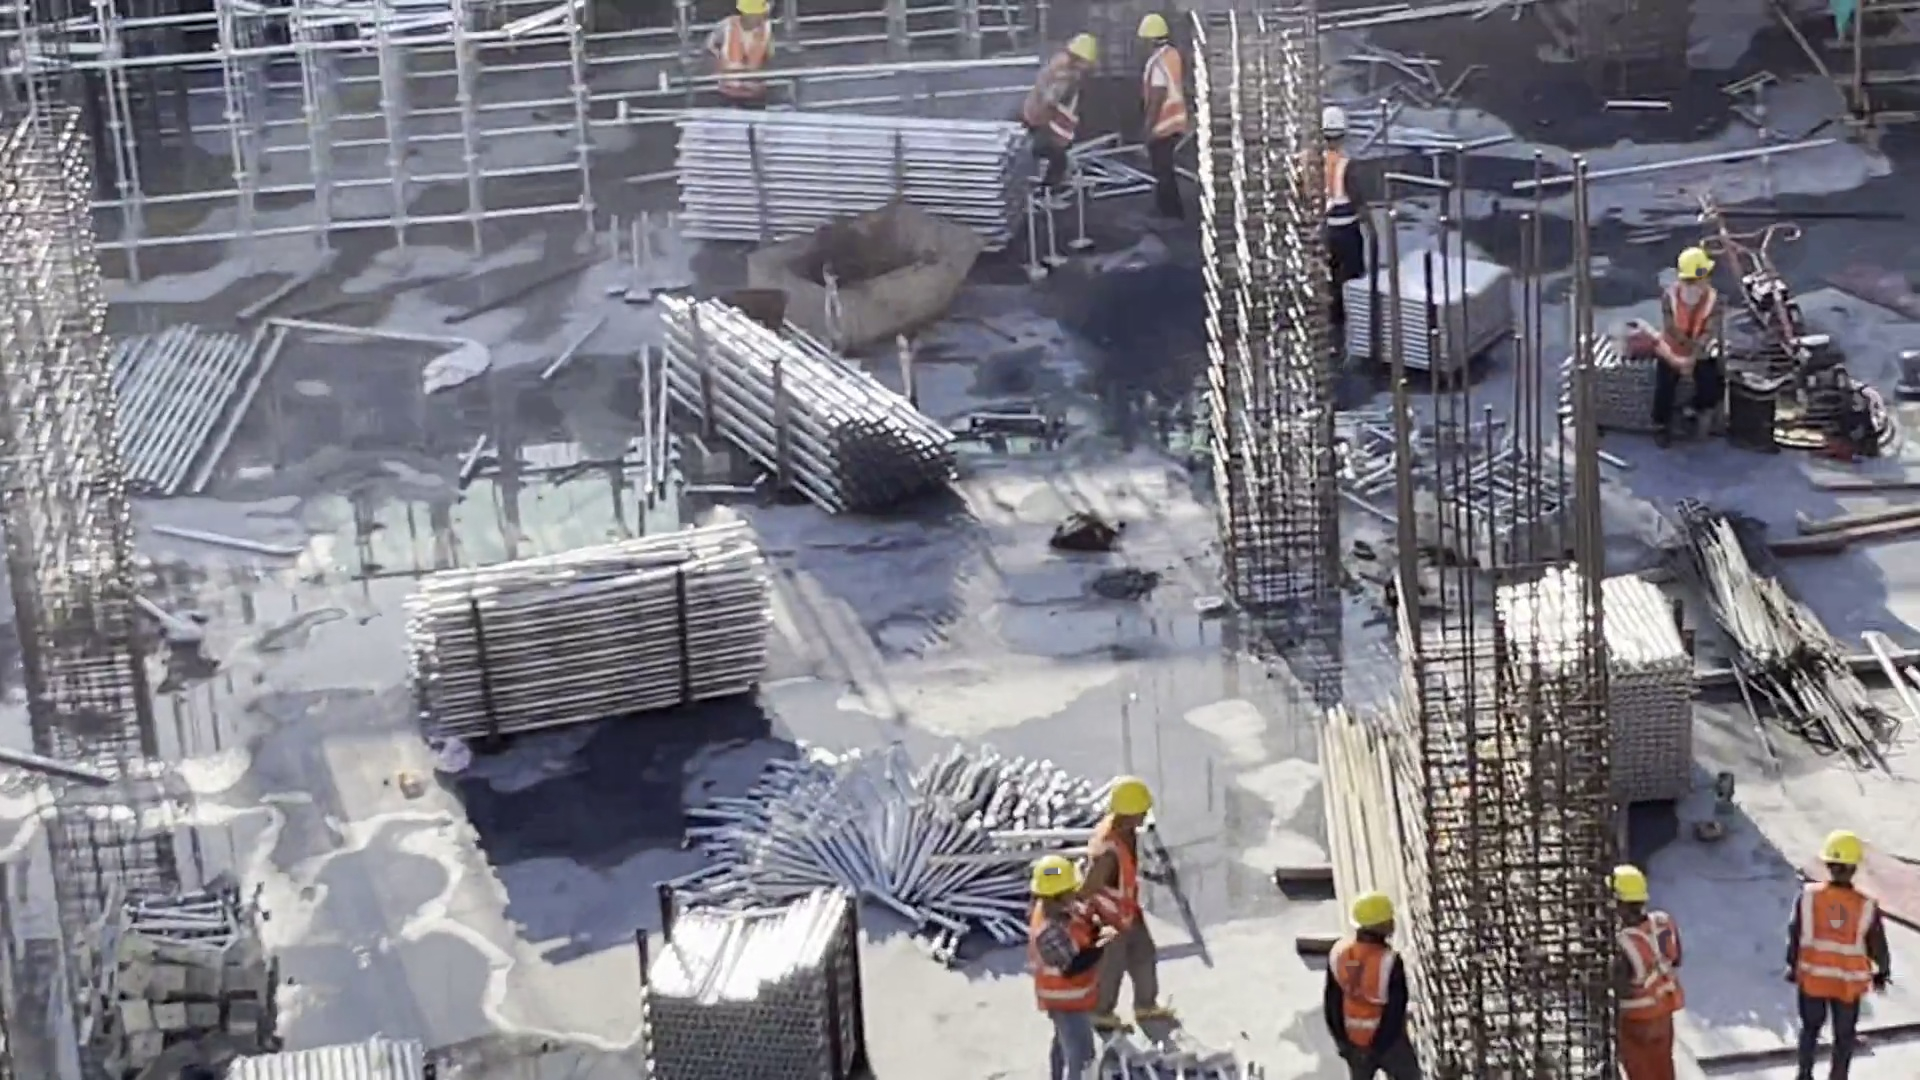helmet: (1024, 845, 1084, 902), (1824, 826, 1872, 881), (1600, 866, 1653, 910), (1346, 893, 1402, 933), (1106, 777, 1156, 818), (1058, 35, 1105, 73), (1680, 238, 1713, 284), (1135, 12, 1173, 47)
person: (1778, 831, 1896, 1080), (1025, 849, 1126, 1080), (1088, 780, 1180, 1034), (1597, 862, 1697, 1080), (1323, 893, 1431, 1080), (1117, 8, 1192, 220), (1654, 239, 1735, 434), (1022, 29, 1100, 192), (1316, 98, 1372, 321), (708, 4, 779, 112)
vest: (1796, 882, 1878, 1006), (1619, 933, 1682, 1075), (1327, 936, 1400, 1047), (1034, 906, 1105, 1007), (1086, 821, 1137, 927), (1143, 47, 1190, 138)
